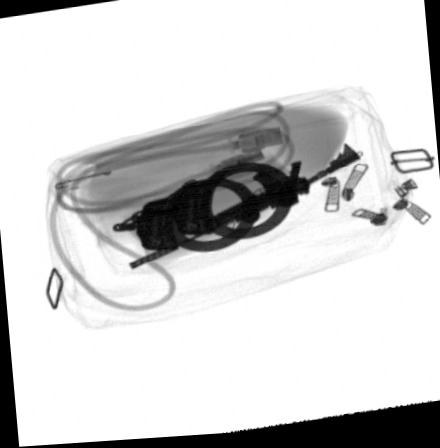Gun: (124, 146, 361, 276)
HandCuffs: (109, 164, 293, 256)
